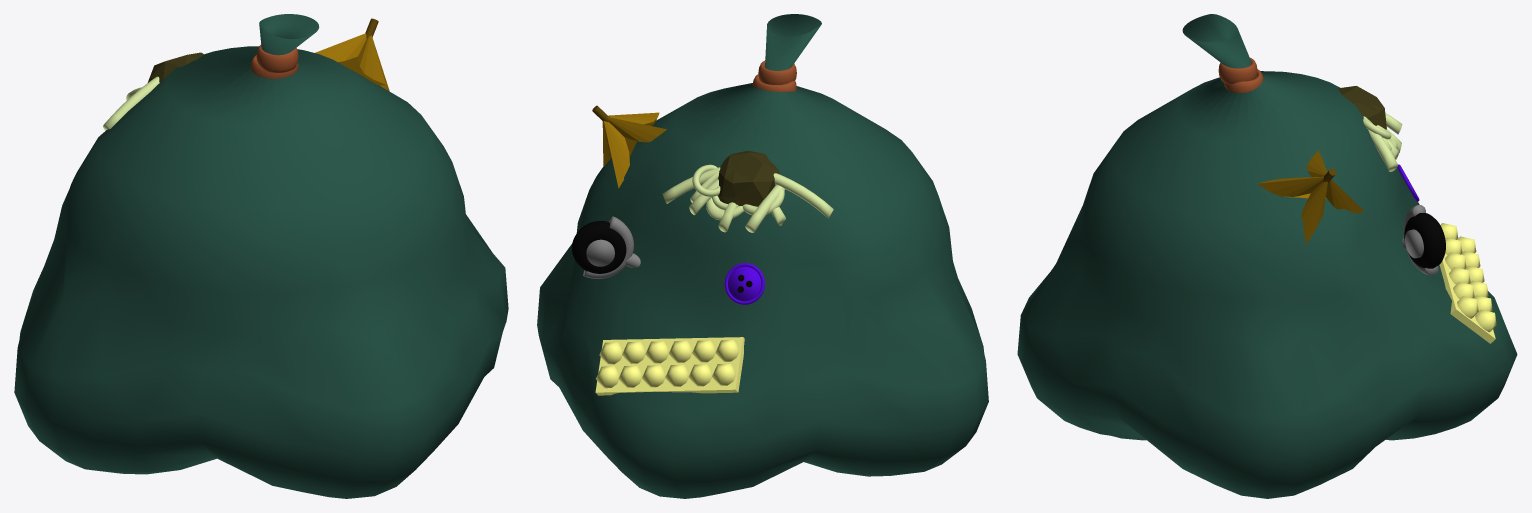
Rendered from Hero.fbx.
3 renders of one model, left to right at view 1: azimuth 30°, elevation 25°; view 2: azimuth 150°, elevation 25°; view 3: azimuth 270°, elevation 25°, orthographic. The views are drawn at different scales.
Visible parts, largest first — view 1: Bag, peel, Band1, Noodle3, Meatball; view 2: Bag, Cube, Meatball, peel, wheel, Face, Noodle3, wheel_sheath, wheel_axel, Band1, Noodle7, Noodle1; view 3: Bag, peel, wheel, Meatball, Cube, Band1.
Boxes of the visible parts, x1,y1,x2,y2 form: Bag: [14, 14, 508, 498]; peel: [315, 33, 389, 91]; Band1: [256, 44, 298, 72]; Noodle3: [103, 76, 159, 130]; Meatball: [147, 52, 203, 82]; Bag: [537, 14, 988, 498]; Cube: [595, 337, 744, 395]; Meatball: [718, 150, 779, 206]; peel: [602, 112, 666, 188]; wheel: [571, 221, 626, 273]; Face: [728, 266, 761, 301]; Noodle3: [773, 173, 833, 218]; wheel_sheath: [583, 216, 633, 278]; wheel_axel: [586, 239, 614, 266]; Band1: [758, 60, 796, 84]; Noodle7: [745, 185, 785, 232]; Noodle1: [662, 167, 720, 203]; Bag: [1017, 14, 1517, 498]; peel: [1257, 150, 1364, 244]; wheel: [1404, 213, 1445, 268]; Meatball: [1338, 86, 1386, 129]; Cube: [1439, 253, 1495, 343]; Band1: [1218, 57, 1257, 84].
Bounding box in the file's own units: 325 × 288 × 325.
